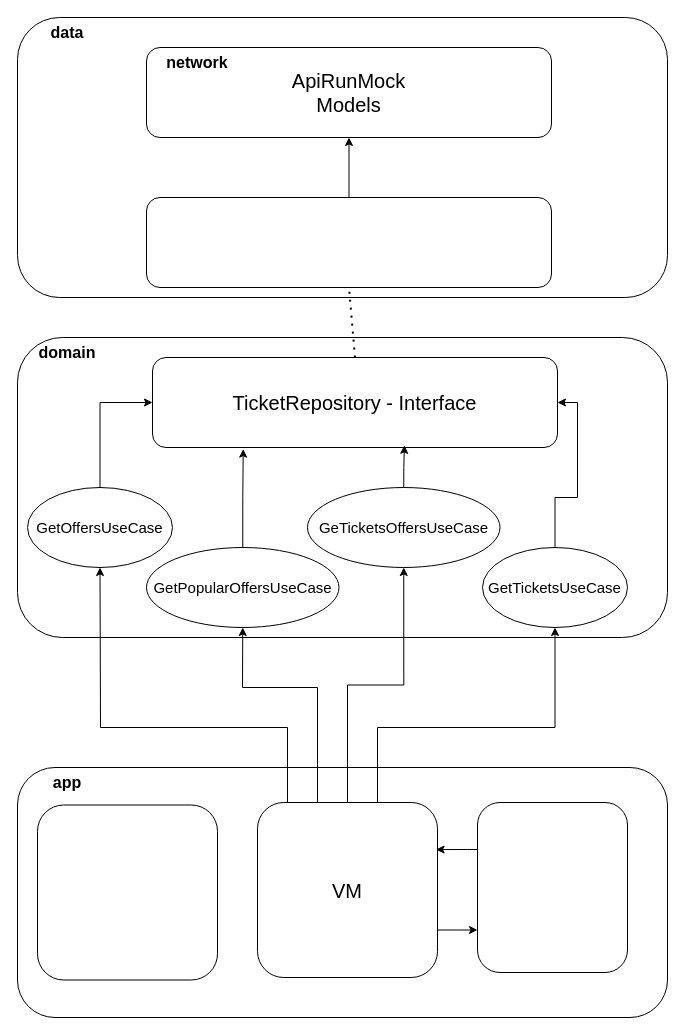
This 685x1035 diagram has some shape labels left out. Here are the shapes that lost their labels. From the top down, the centre of each, then its label:
At [349,242]: "TicketRepositoryImpl - Implementation".
At [127,892]: "DI".
At [552,887]: "UI".
